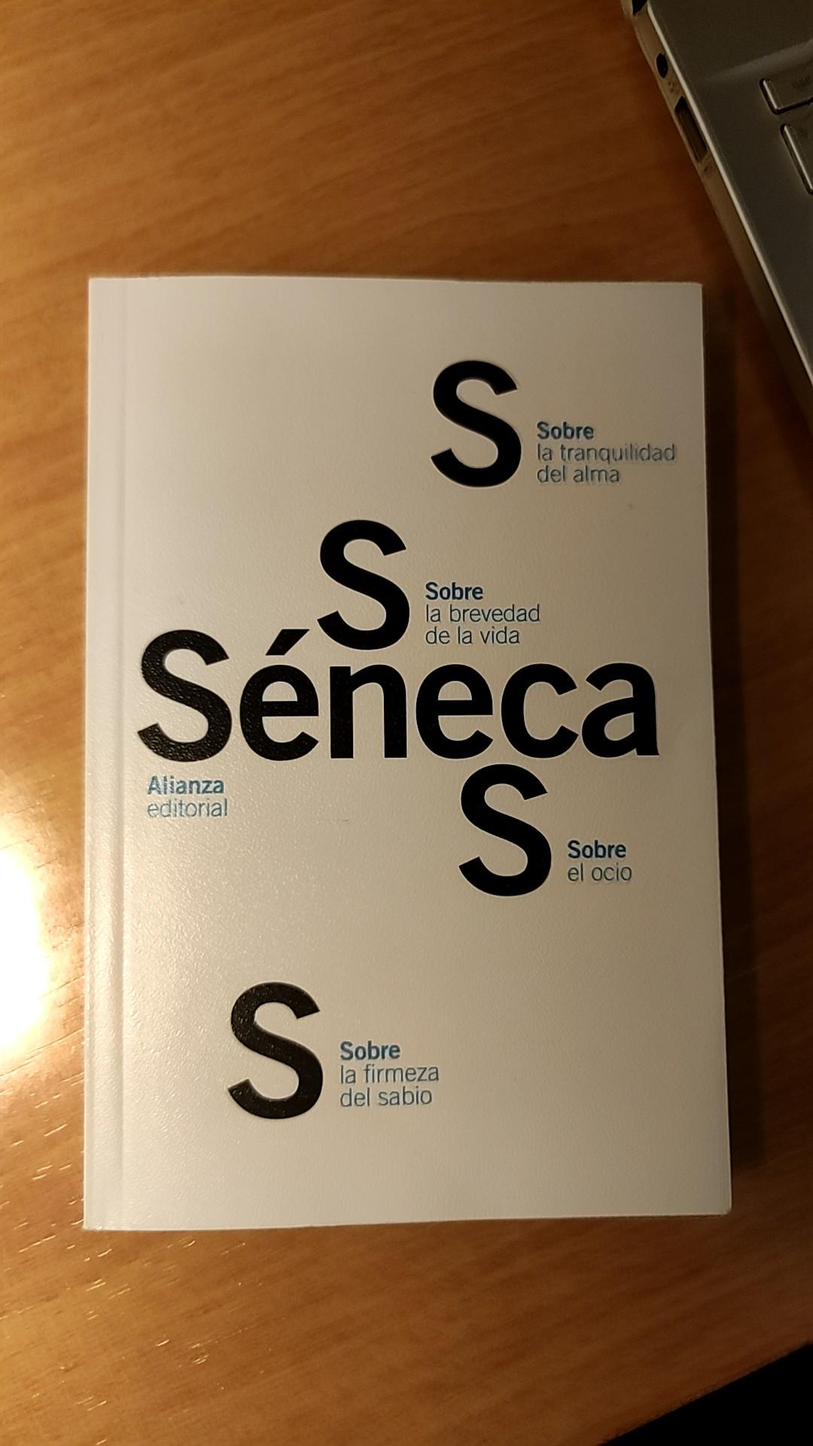book: (84, 276, 729, 1230)
